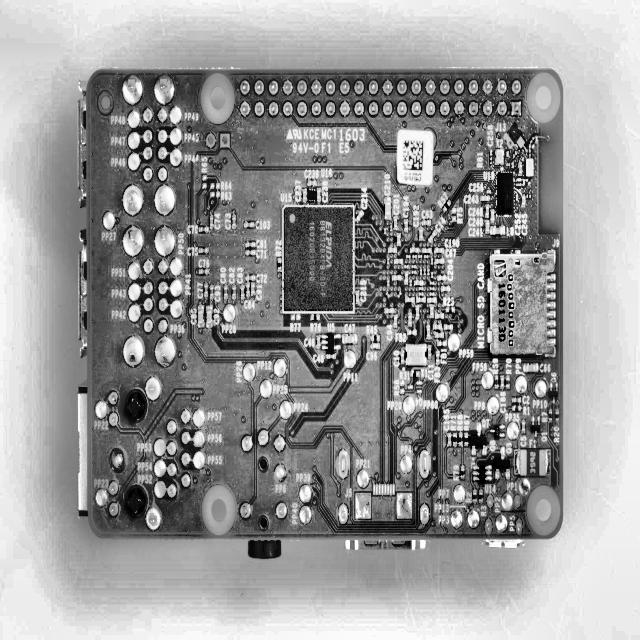PCB: (78, 71, 565, 559)
